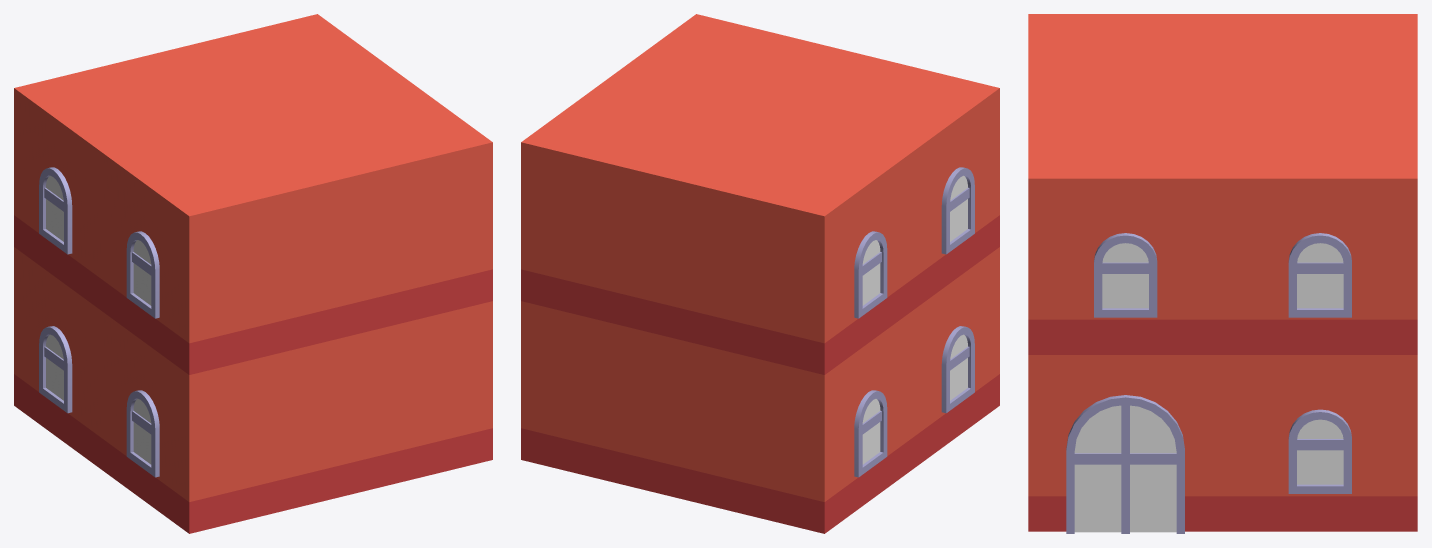
File: test-building-2b.glb
3 views of the same model, side by side, from view 1: azimuth 30°, elevation 25°; view 2: azimuth 150°, elevation 25°; view 3: azimuth 270°, elevation 25° (orthographic). The views are drawn at different scales.
Parts seen in each view (by area): view 1: mergedBlocks(Clone); view 2: mergedBlocks(Clone); view 3: mergedBlocks(Clone).
Part boxes in pixels (box(x1,y1,x2,y2)): mergedBlocks(Clone): box(14, 14, 492, 533); mergedBlocks(Clone): box(521, 14, 999, 533); mergedBlocks(Clone): box(1028, 14, 1417, 533).
Size of the model in its own units: 2.06 by 2 by 2.
